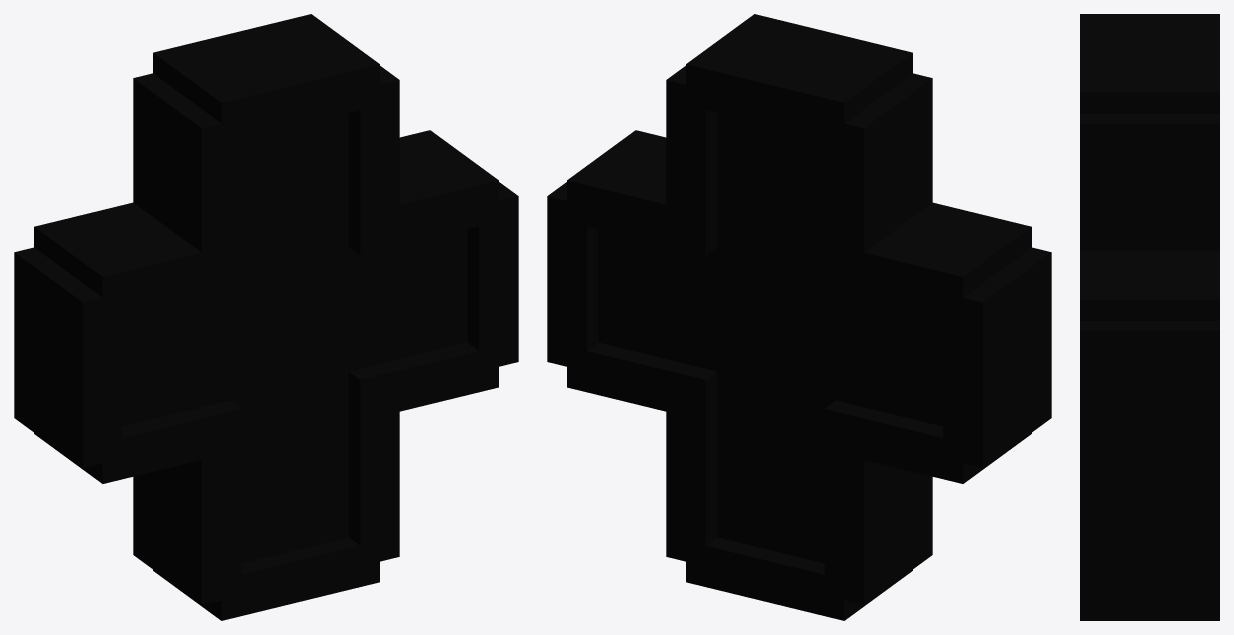
Rendered from life.fbx.
The picture shows the model from 3 angles, left to right: view 1: azimuth 30°, elevation 25°; view 2: azimuth 150°, elevation 25°; view 3: azimuth 270°, elevation 25°; orthographic projection.
Parts seen in each view (by area): view 1: life:Mesh; view 2: life:Mesh; view 3: life:Mesh.
Boxes of the visible parts, x1,y1,x2,y2 form: life:Mesh: (14,14,518,620); life:Mesh: (547,14,1051,620); life:Mesh: (1080,14,1219,620).
Bounding box in the file's own units: 22 × 25 × 6.
